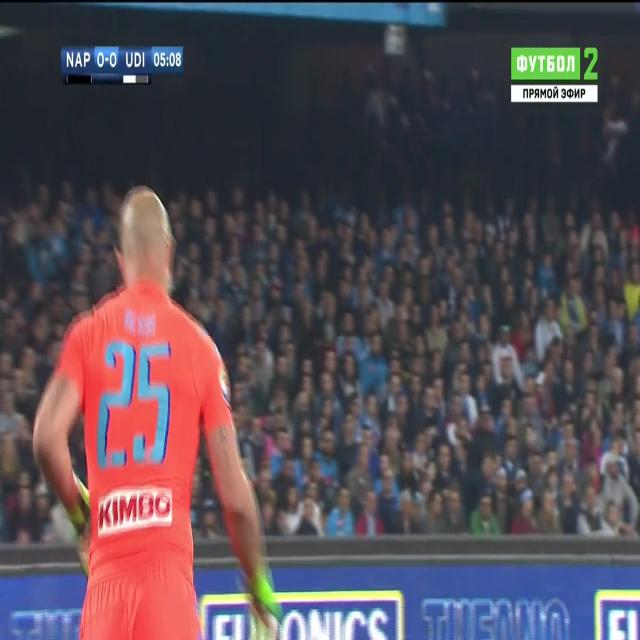Player: (32, 185, 291, 639)
